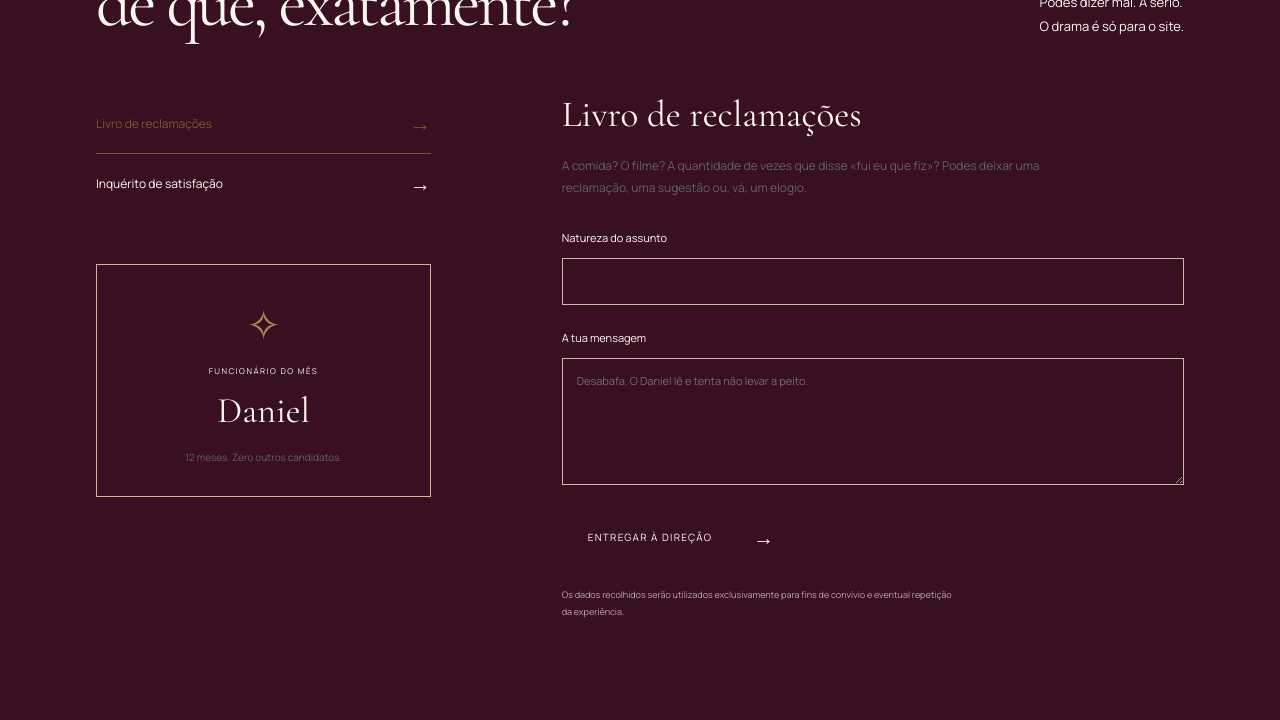
Test: reservas e secretaria › entrega uma mensagem e informa o resultado
(page scrolled)
Type "O jantar merece bis." into the text box labelled "A tua mensagem" at (873, 421), box [562,358,1184,484]
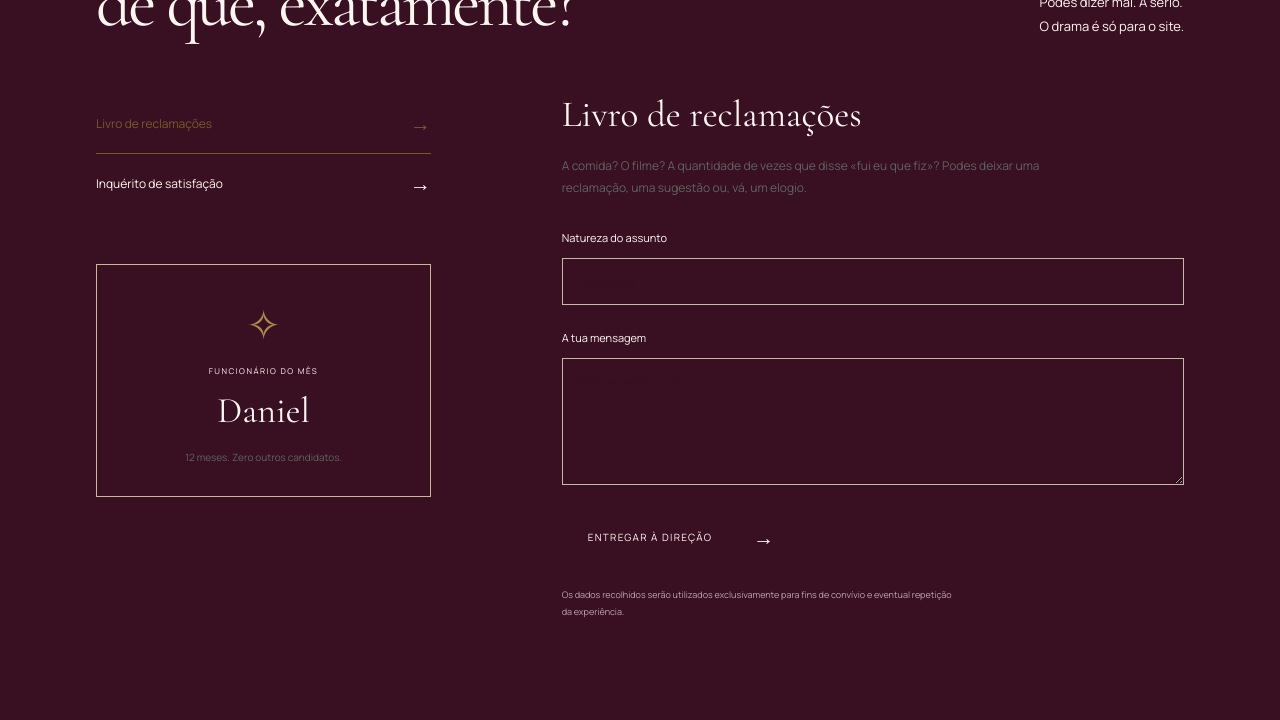
Submit the form named "Livro de reclamações", box [562,228,1184,620]
(page scrolled)
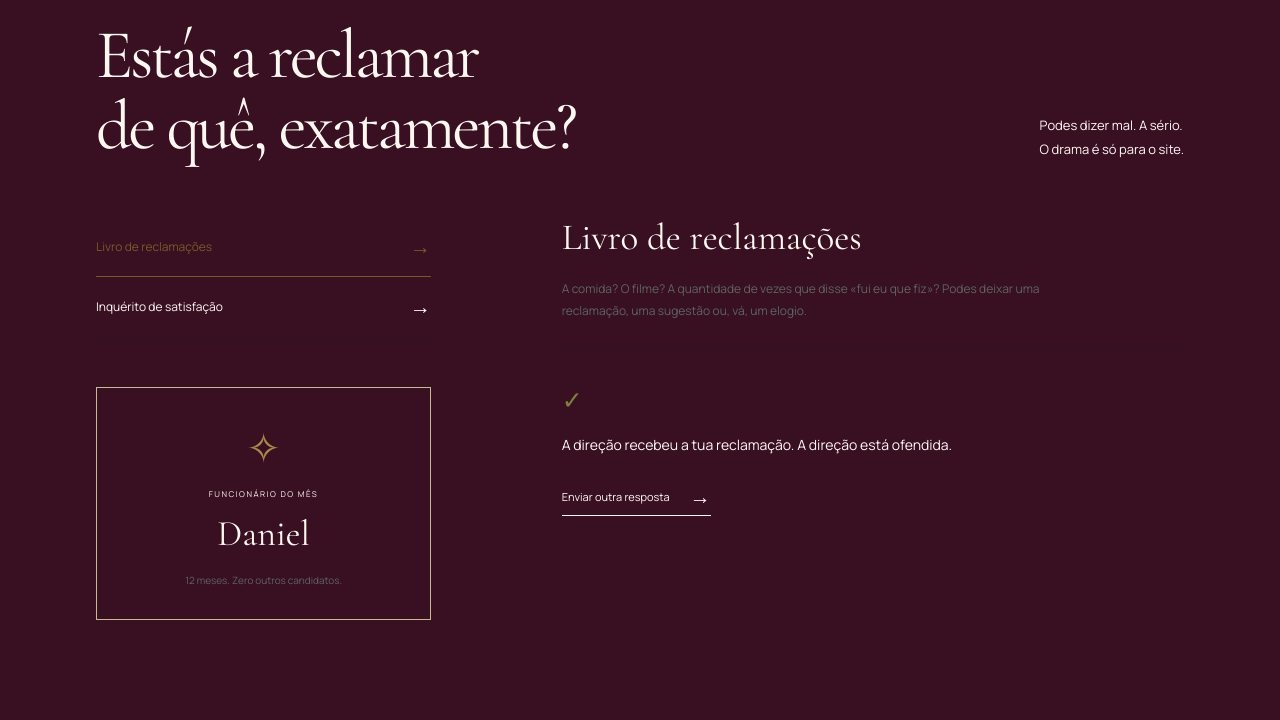
Result: the message shows "A direção recebeu a tua reclamação." at [562,435,952,454]
